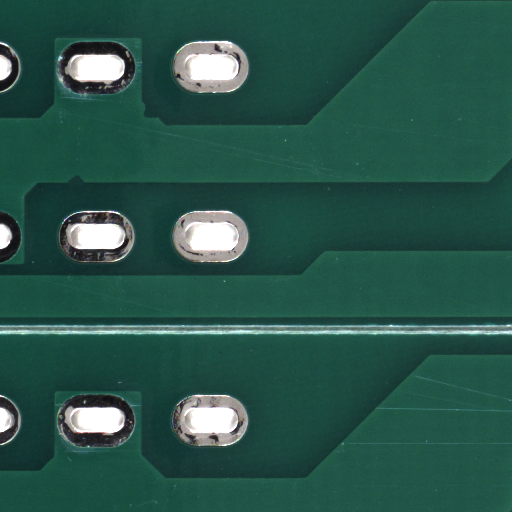Mouse_bite: (151, 111, 168, 125), (76, 179, 93, 189)
